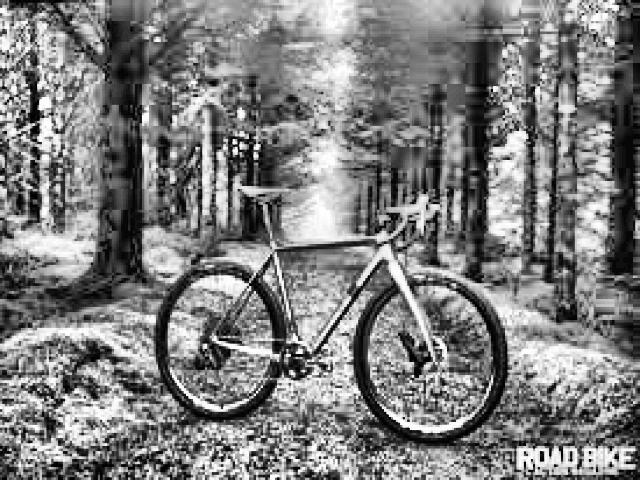cranks_set: (278, 338, 333, 383)
rear_derailleur: (192, 340, 224, 373)
saddle: (236, 185, 294, 205)
sti_shifter: (414, 193, 429, 237)
wheel: (352, 268, 510, 442), (154, 257, 290, 420)
